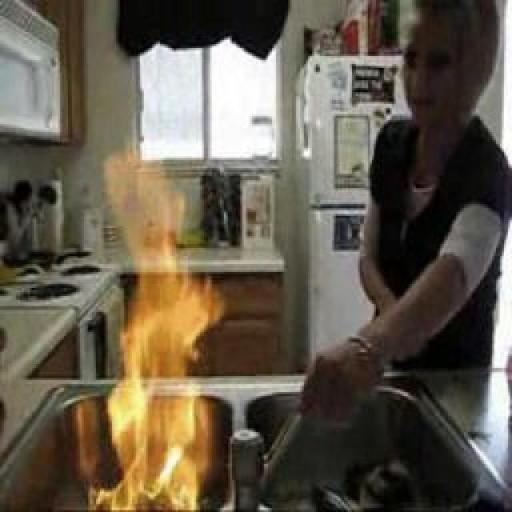smoke: (102, 149, 220, 512)
